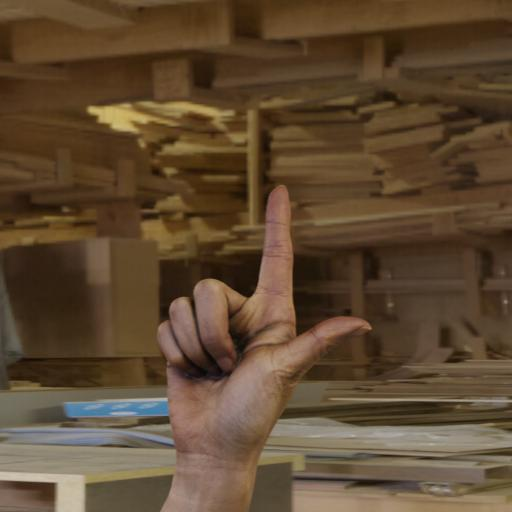L: (152, 184, 375, 466)
